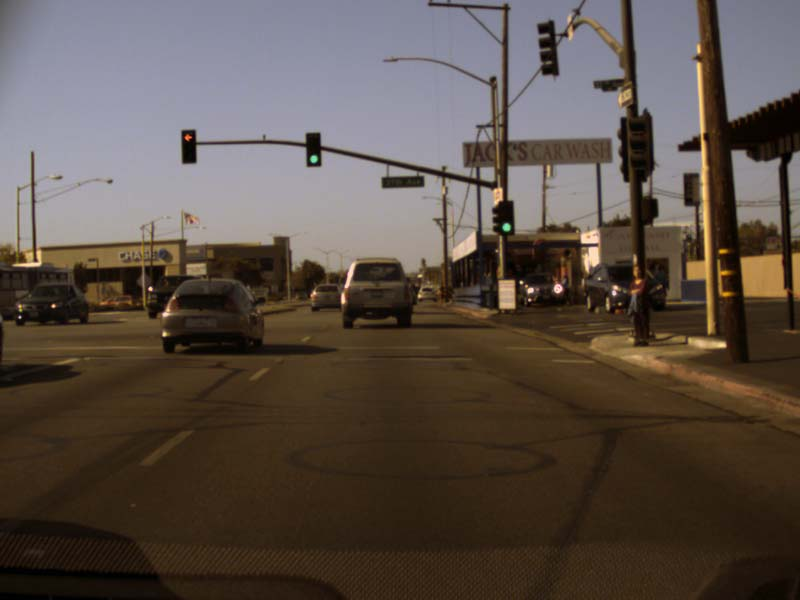Green: (305, 132, 321, 167), (499, 201, 514, 234)
Red: (181, 130, 195, 164)
